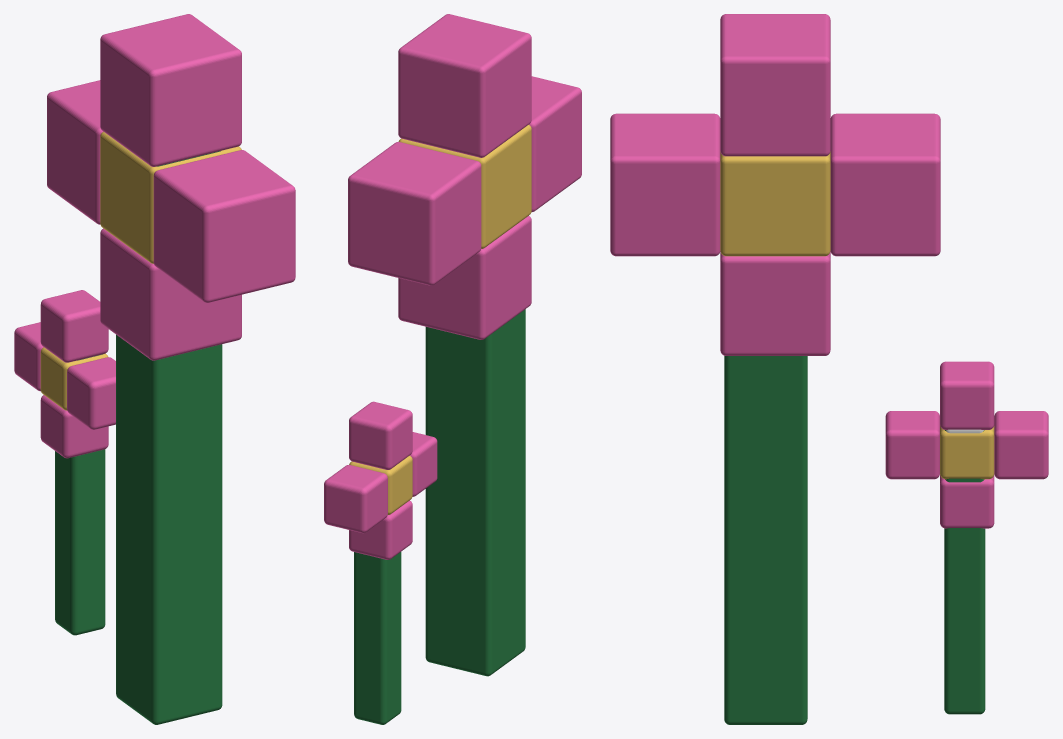
The picture shows the model from 3 angles, left to right: view 1: azimuth 30°, elevation 25°; view 2: azimuth 150°, elevation 25°; view 3: azimuth 270°, elevation 25°; orthographic projection. The views are drawn at different scales.
Visible parts, largest first — view 1: BipJamExport_ice_flower; view 2: BipJamExport_ice_flower; view 3: BipJamExport_ice_flower.
Part boxes in pixels (<box>): BipJamExport_ice_flower: <box>14,14,295,724</box>; BipJamExport_ice_flower: <box>324,14,581,724</box>; BipJamExport_ice_flower: <box>610,14,1048,724</box>.
Bounding box in the file's own units: 0.1484 × 1.01 × 0.5909.
